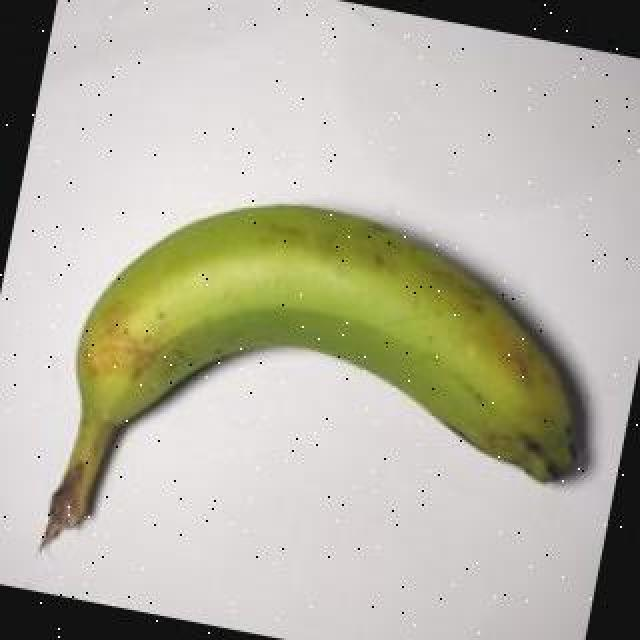Unripe: (40, 201, 580, 539)
